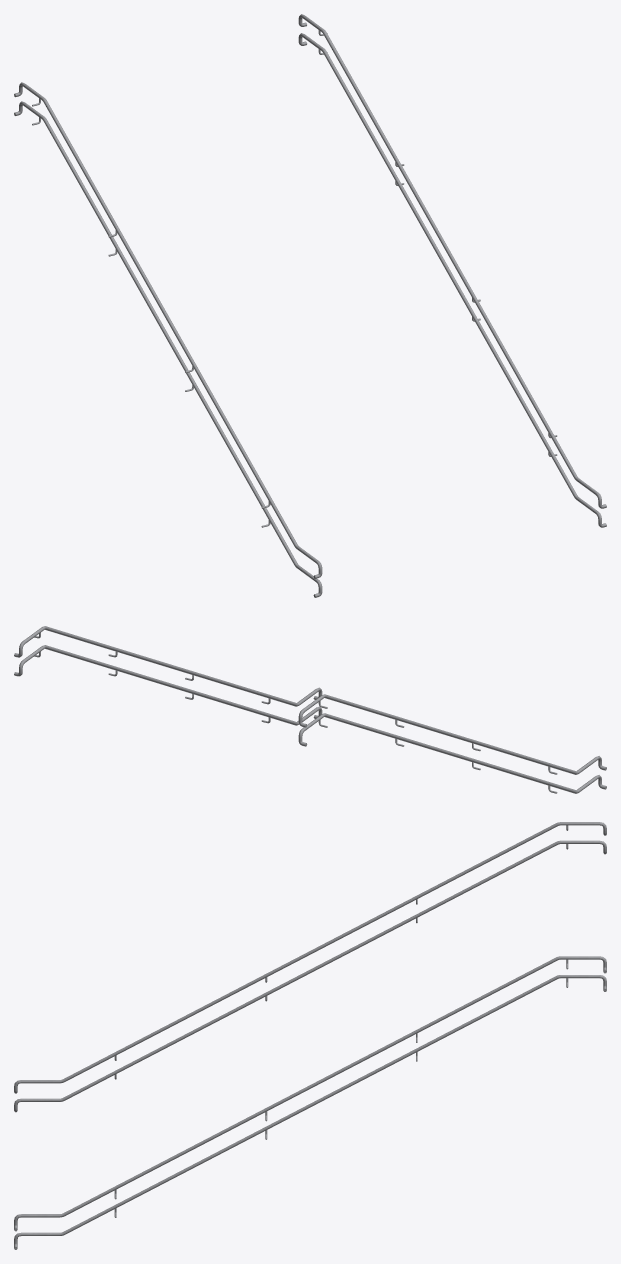
The model's file is gteki_ik_stair_n16_r173_t302_w3038_rails_wall.glb.
3 renders of one model, top to bottom at view 1: azimuth 30°, elevation 25°; view 2: azimuth 150°, elevation 25°; view 3: azimuth 270°, elevation 25°, orthographic.
Visible parts, largest first — view 1: VIS_handrails; view 2: VIS_handrails, VIS_rail_supports; view 3: VIS_handrails.
Boxes of the visible parts, box(x1,y1,x2,y2) form: VIS_handrails: box(14, 14, 606, 597); VIS_handrails: box(14, 626, 606, 793); VIS_rail_supports: box(34, 632, 557, 793); VIS_handrails: box(14, 822, 606, 1249).
Size of the model in its own units: 3.26 by 3.12 by 5.77.
1 material, 1 textured.
